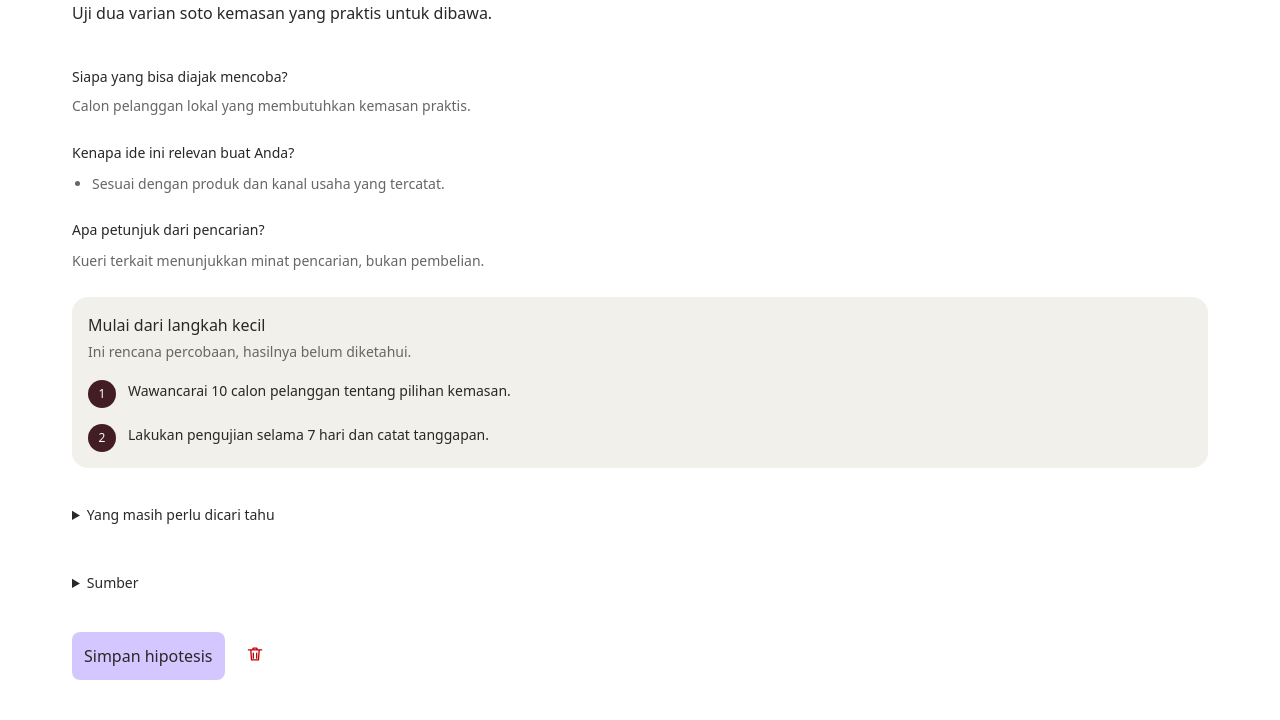
Test case: PrivateOpportunityFinder timeout state › keeps the hypothesis visible and explains when the server rejects deletion
This screenshot has width=1280, height=720.
(page scrolled)
What coordinates should you click on to do the following:
click the button named "Hapus hipotesis: Uji kemasan soto"
I would click on:
 (254, 654)
Its box is [232, 632, 276, 676].
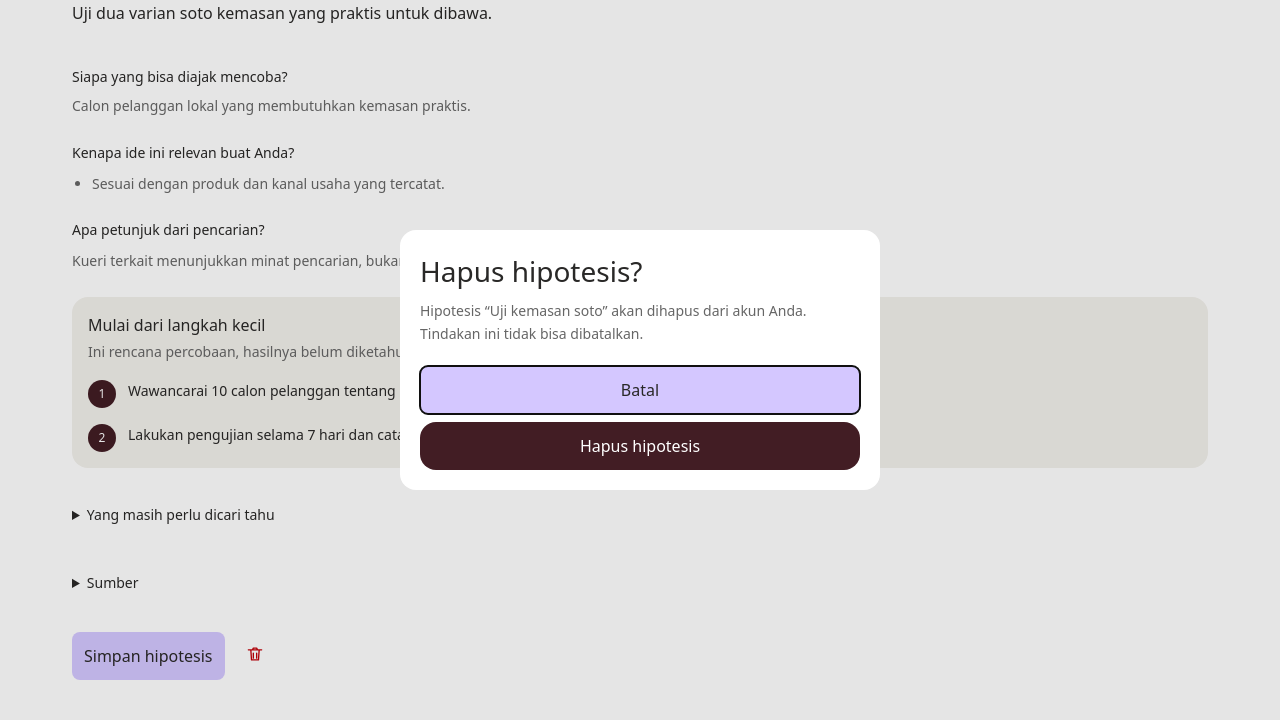
Expected: the dialog is shown, [400, 230, 880, 490]
What coordinates should you click on to do the following:
click the button "Hapus hipotesis"
I would click on:
 (640, 446)
Its box is [420, 422, 860, 470].
(page scrolled)
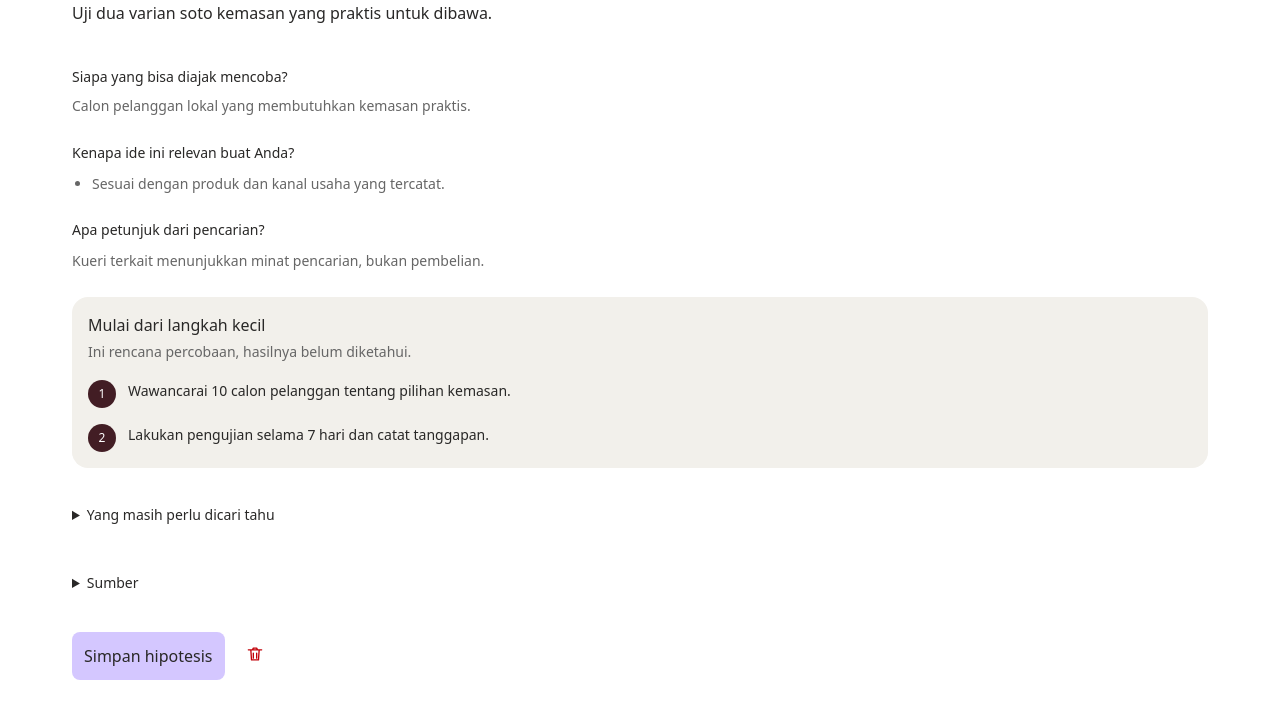
Expected: the text "Uji dua varian soto kemasan yang praktis untuk dibawa." is shown, [72, 2, 492, 24]
Expected: the dialog is gone
